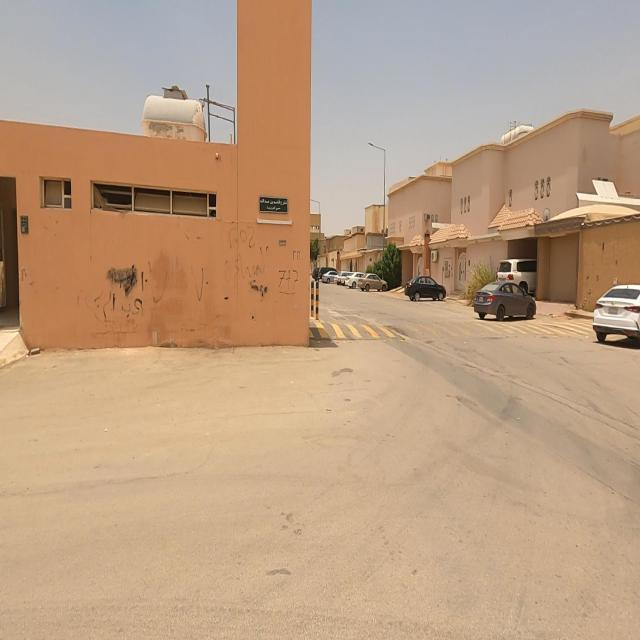Graffiti: (75, 265, 146, 323), (226, 222, 275, 298), (183, 229, 211, 302), (148, 247, 168, 303), (280, 267, 300, 296), (292, 248, 302, 263)
